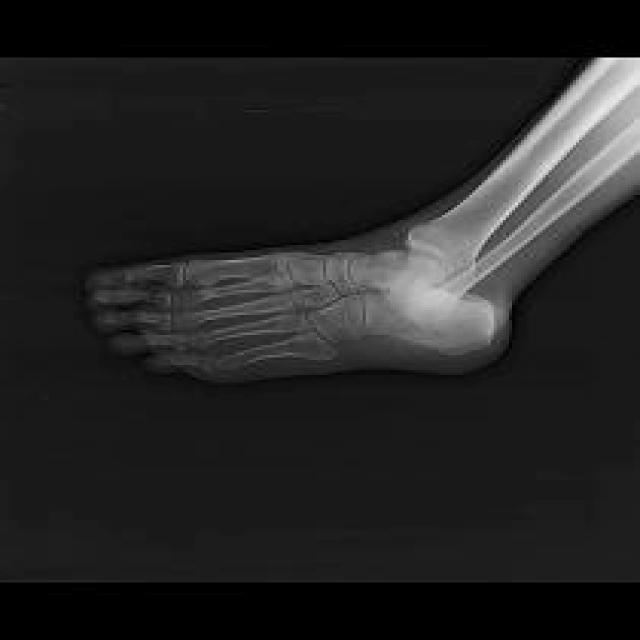normal: (87, 61, 636, 356)
